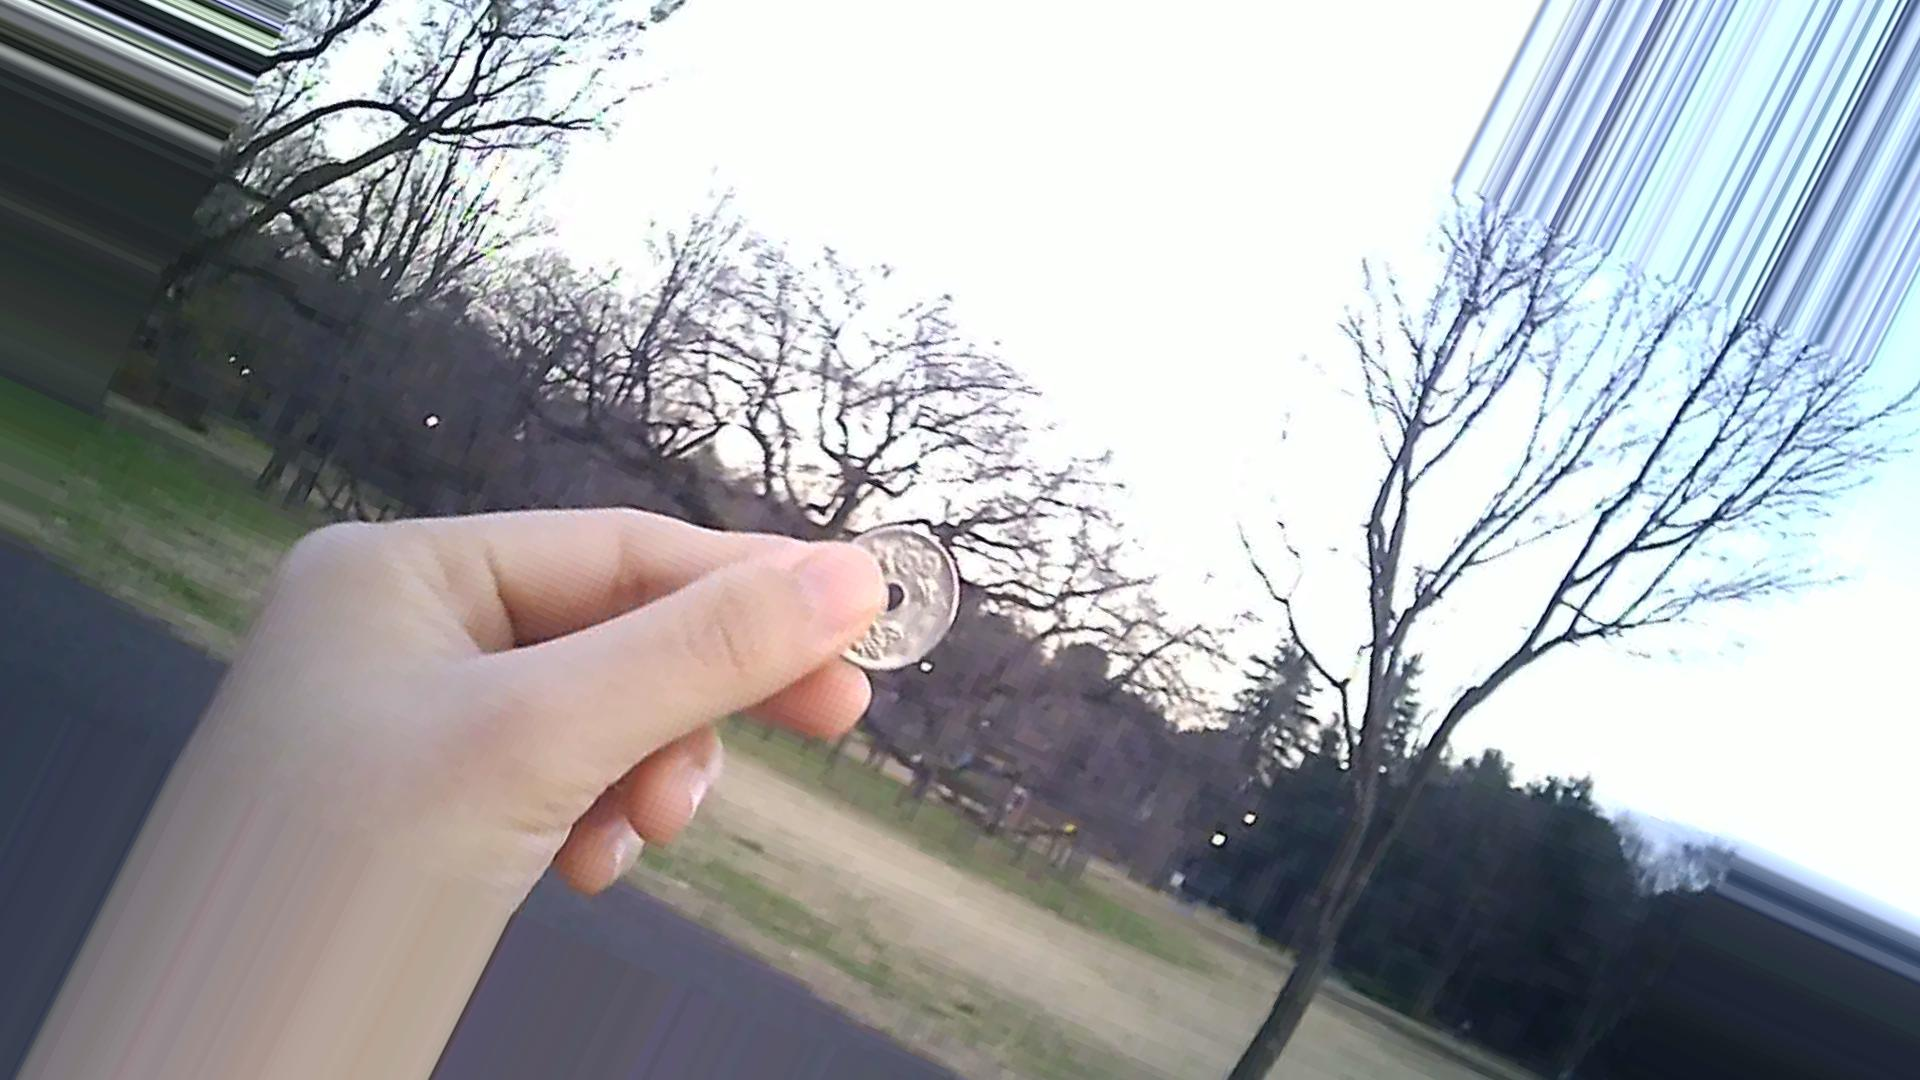50 Yen: (823, 505, 963, 684)
